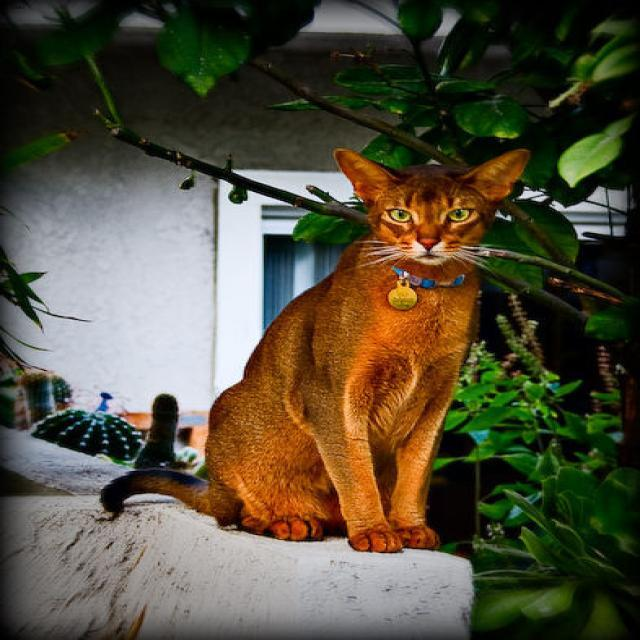Abyssinian: (328, 146, 533, 276)
